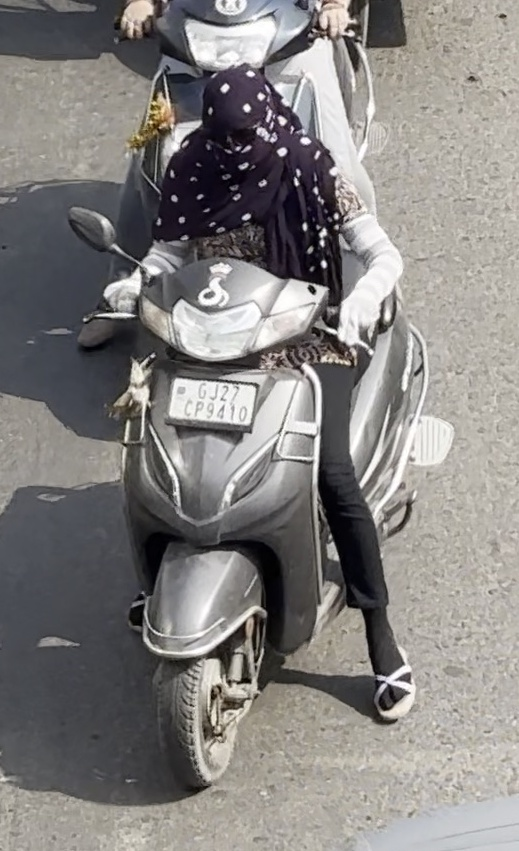BikeWithRider: (57, 59, 465, 803)
NoHelmet: (189, 58, 292, 159)
